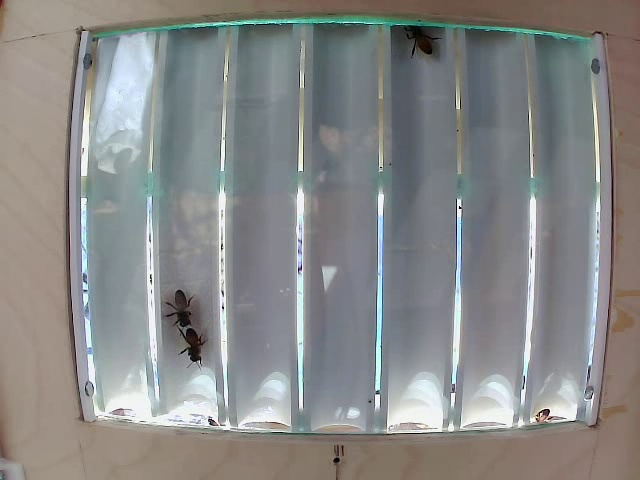bee: (402, 20, 452, 72), (166, 321, 212, 367), (159, 283, 206, 324)
